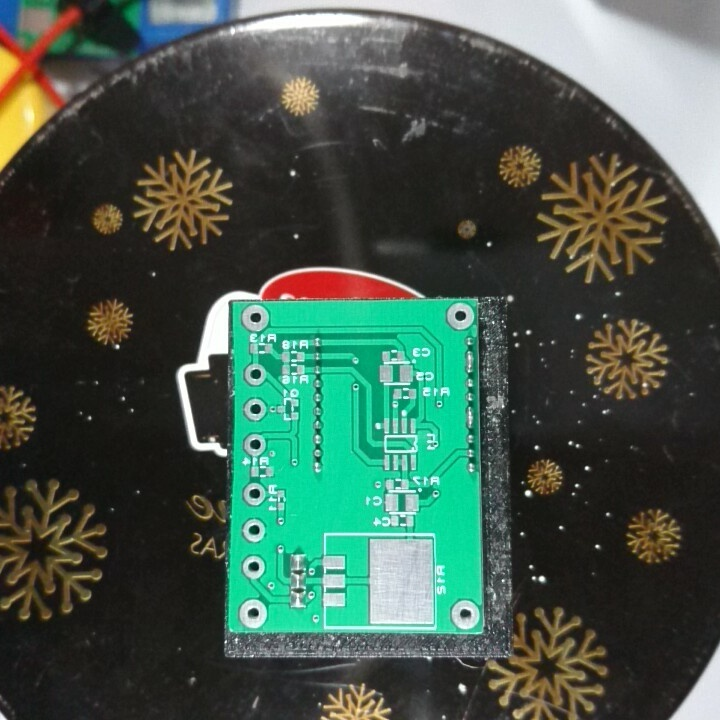F: (449, 596, 484, 632), (235, 597, 272, 630), (443, 300, 477, 332), (240, 303, 271, 333), (239, 517, 269, 546), (241, 394, 269, 423), (241, 360, 269, 389), (241, 553, 268, 583), (242, 480, 268, 509), (242, 431, 268, 458)
P: (462, 405, 478, 431), (463, 347, 477, 375)
